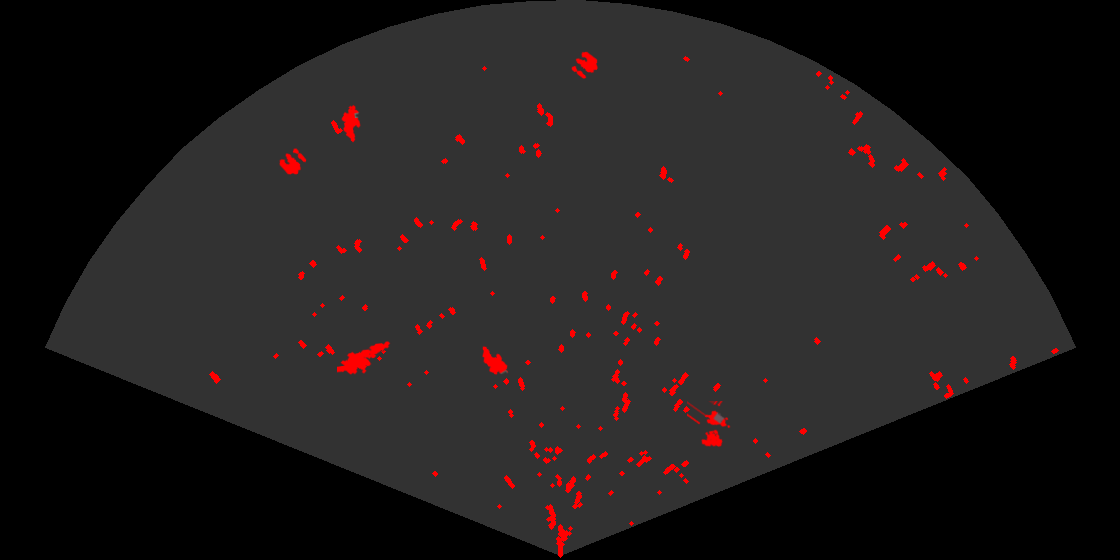AUV: (481, 344, 510, 377), (340, 103, 362, 144)
ball: (570, 50, 600, 80), (278, 147, 308, 176)
cage: (687, 401, 732, 449)
frogman: (337, 340, 392, 376)
